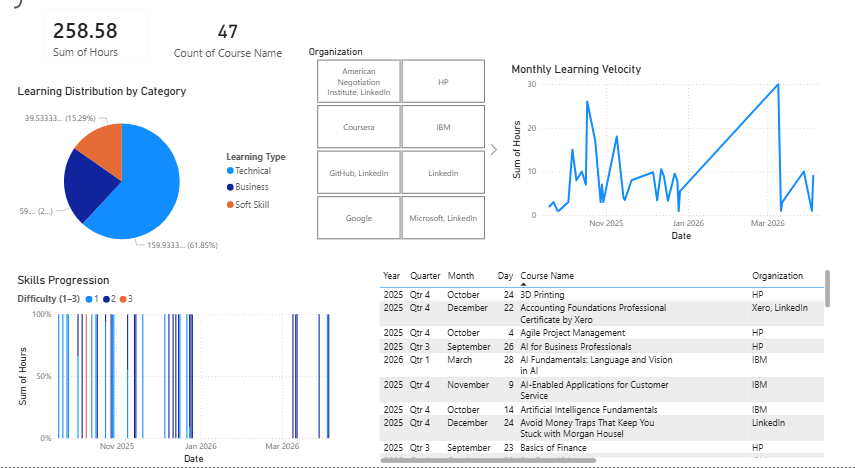

Layout of this report page (visuals, bound fields, positions):
{"tool":"powerbi","page":{"name":"Executive Summary","canvas":[1280,720],"ordinal":0},"visuals":[{"type":"cardVisual","fields":{"Data":["Sum(Sheet1.Hours)"]},"box":[50,18.3,188.3,115],"z":0},{"type":"lineChart","title":"Monthly Learning Velocity","fields":{"Y":["Sum(Sheet1.Hours)"],"Category":["Sheet1.Date"]},"box":[758.8,115,487,271.9],"z":1000},{"type":"pieChart","title":"Learning Distribution by Category","fields":{"Category":["Sheet1.Learning Type"],"Y":["Sum(Sheet1.Hours)"]},"box":[20.9,147.9,427.2,271.9],"z":2000},{"type":"hundredPercentStackedColumnChart","title":"Skills Progression","fields":{"Category":["Sheet1.Date"],"Y":["Sum(Sheet1.Hours)"],"Series":["Sheet1.Difficulty (1–3)"]},"box":[21,430,502,290],"z":3000},{"type":"tableEx","fields":{"Values":["Sheet1.Date.Variation.Date Hierarchy.Year","Sheet1.Date.Variation.Date Hierarchy.Quarter","Sheet1.Date.Variation.Date Hierarchy.Month","Sheet1.Date.Variation.Date Hierarchy.Day","Sheet1.Course Name","Sheet1.Organization ","Sheet1.URL"]},"box":[561.7,419.8,684.1,300.2],"z":4000},{"type":"slicer","fields":{"Values":["Sheet1.Organization "]},"box":[448.1,86.6,300.2,300.2],"z":5000},{"type":"actionButton","box":[0,0,100,40],"z":6000},{"type":"card","fields":{"Values":["Count(Sheet1.Course Name)"]},"box":[235,25,211.7,103.3],"z":7000}]}

Visuals, with their boxes in screenshot pixels (x1, y1, x2, y2), scaled from the page's 1280x720 canvas onto the 855x468 screenshot:
cardVisual - Sum(Sheet1.Hours): [left=33, top=12, right=159, bottom=87]
"Monthly Learning Velocity" lineChart: [left=507, top=75, right=832, bottom=251]
"Learning Distribution by Category" pieChart: [left=14, top=96, right=299, bottom=273]
"Skills Progression" hundredPercentStackedColumnChart: [left=14, top=280, right=349, bottom=467]
tableEx - Sheet1.Date.Variation.Date Hierarchy.Year x Sheet1.Date.Variation.Date Hierarchy.Quarter: [left=375, top=273, right=832, bottom=467]
slicer - Sheet1.Organization : [left=299, top=56, right=500, bottom=251]
actionButton: [left=0, top=0, right=67, bottom=26]
card - Count(Sheet1.Course Name): [left=157, top=16, right=298, bottom=83]
